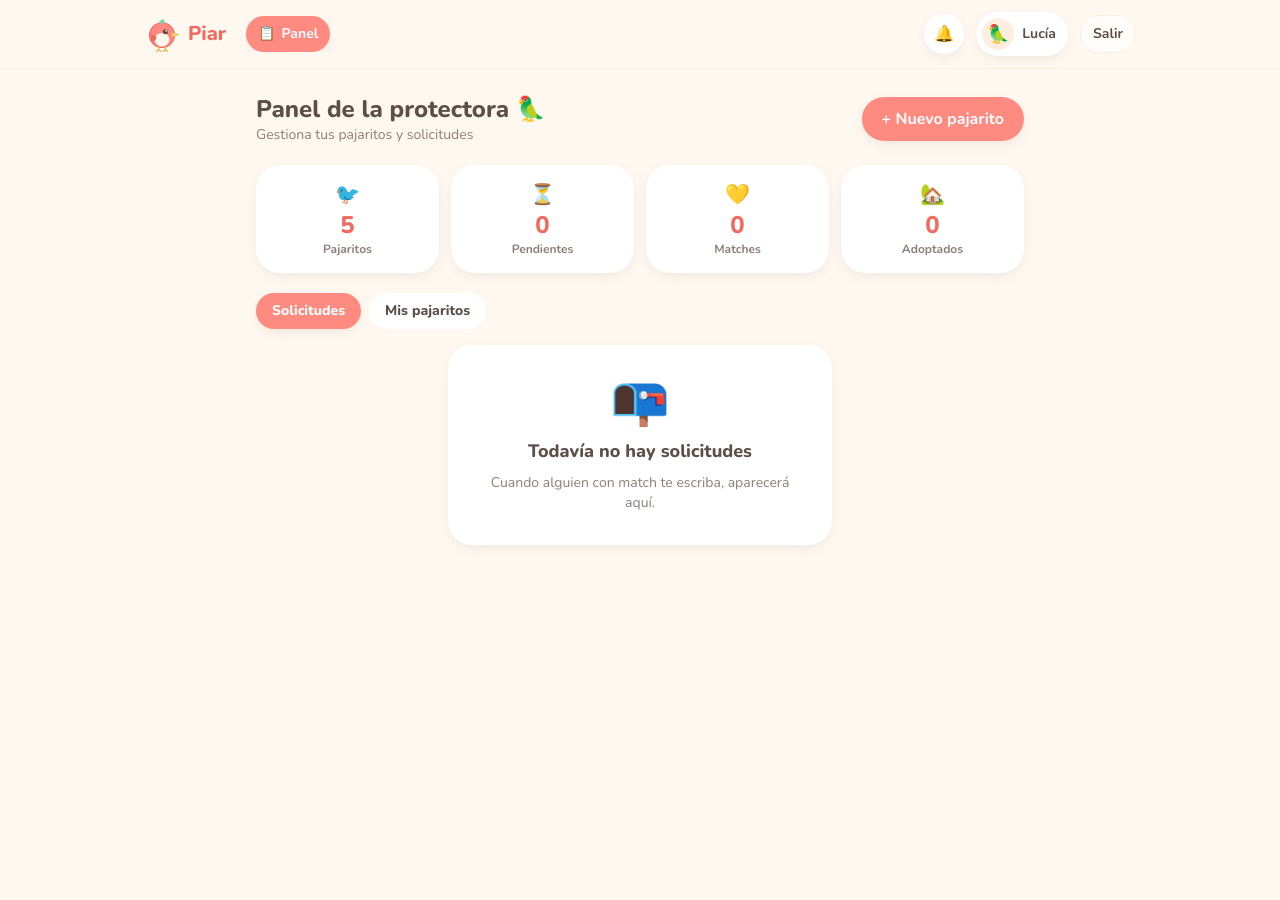
Test: panel de la protectora › crea un pajarito nuevo con el formulario
The image size is (1280, 900).
Click the button "Mis pajaritos": (428, 311) [369,293,486,329]
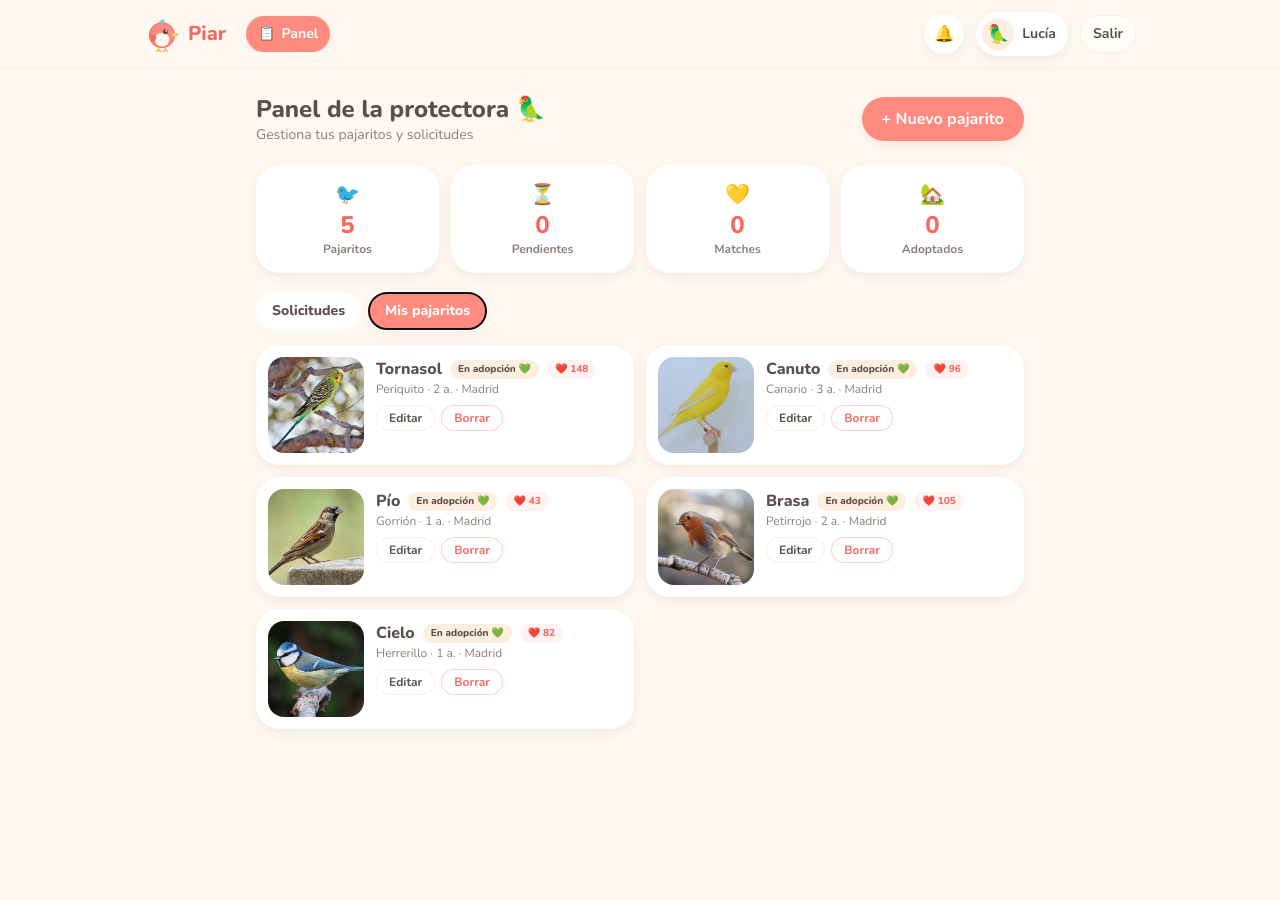
Click the button "+ Nuevo pajarito": (943, 119) [862,97,1024,141]
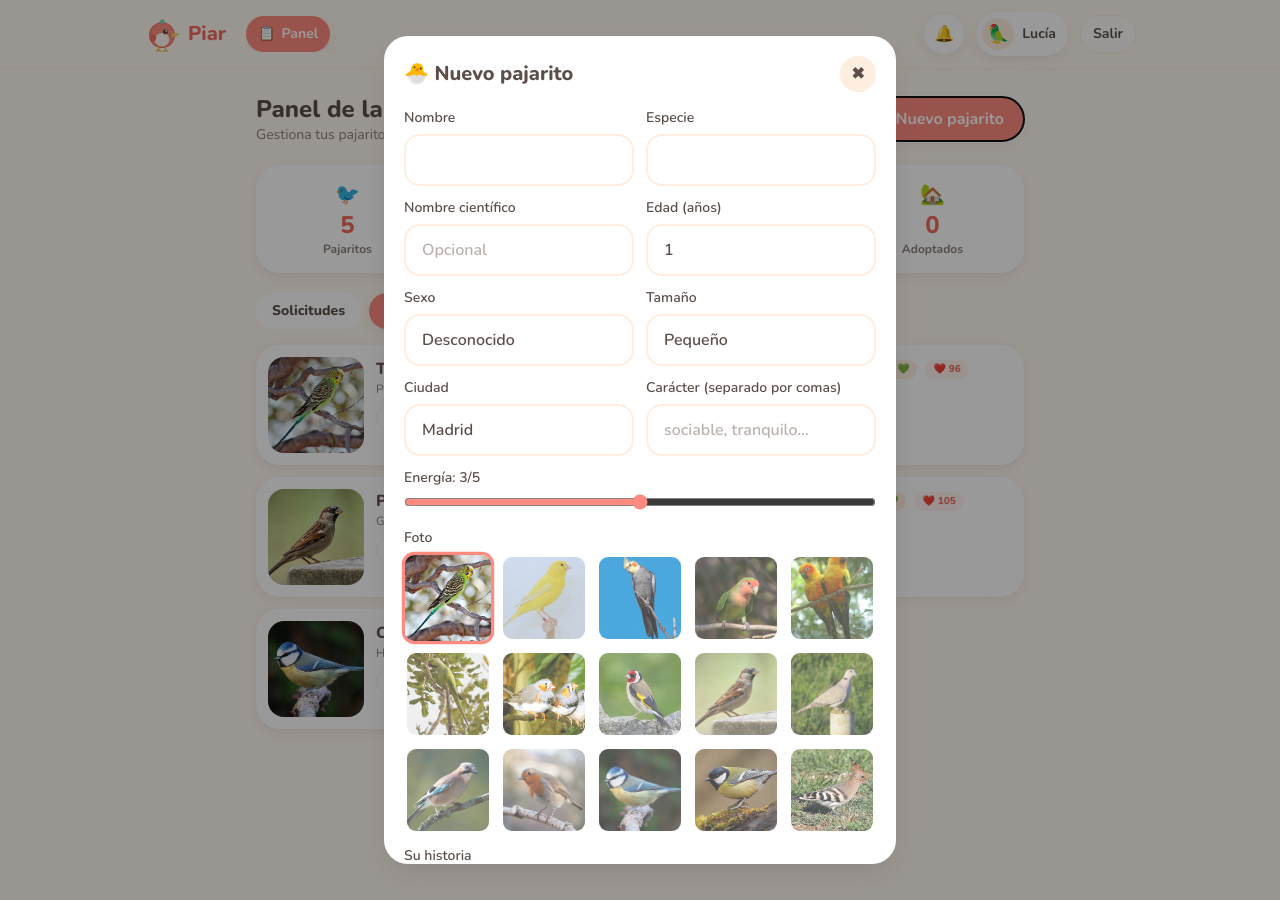
In the field labelled "Nombre": (519, 160) [404,134,634,186], type "Rabito"
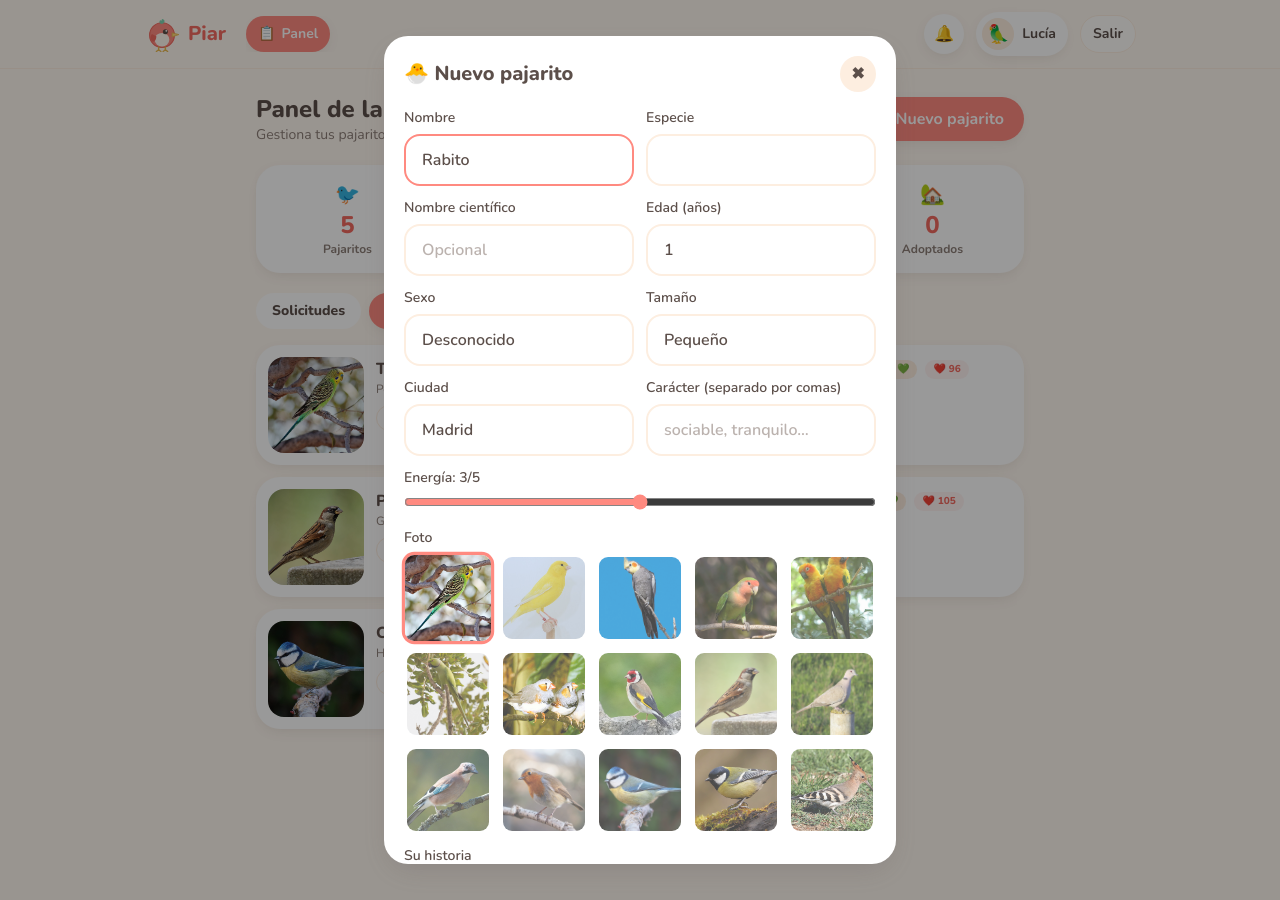
In the field labelled "Especie": (761, 160) [646,134,876,186], type "Pinzón"
(page scrolled)
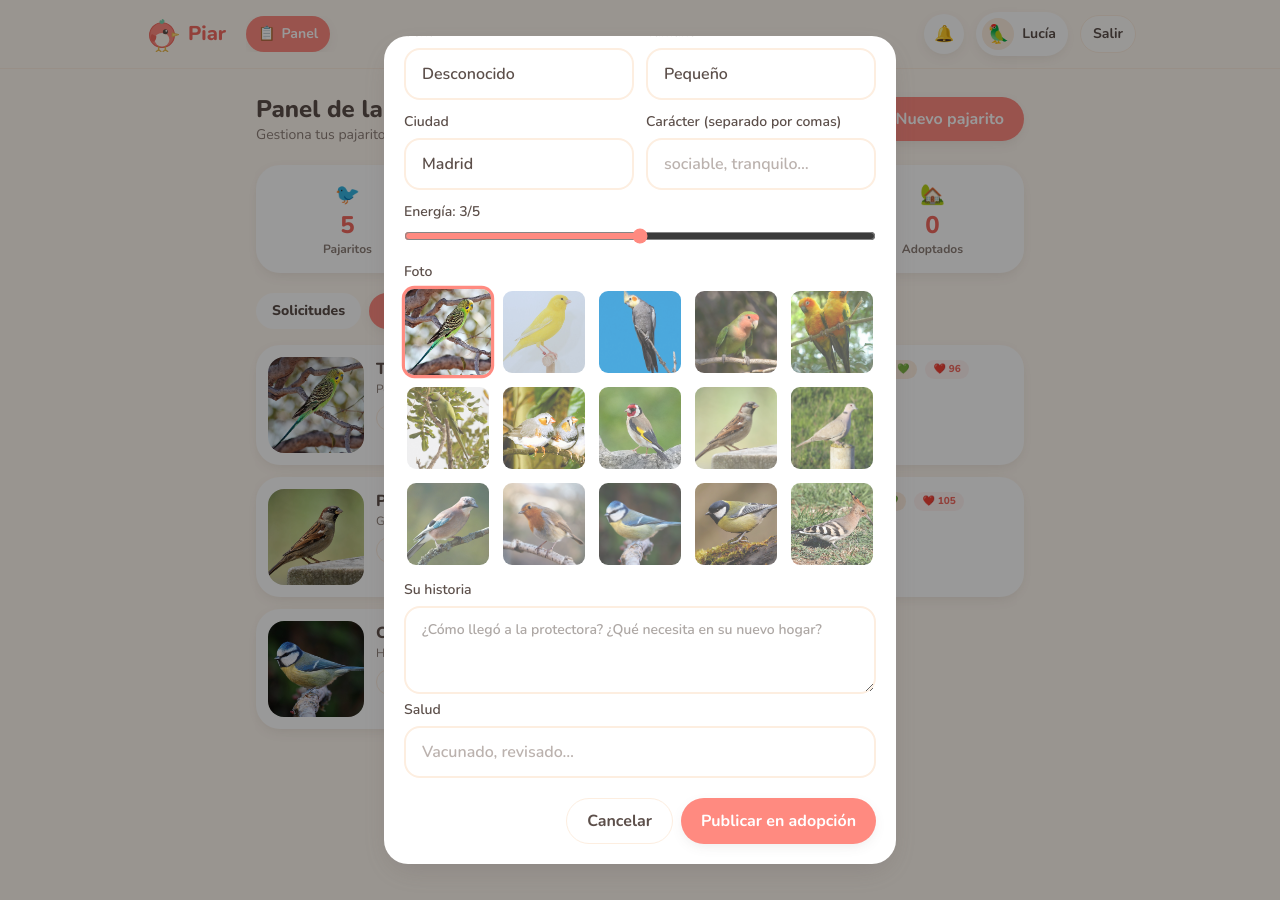
In the text box labelled "Su historia": (640, 650) [404,606,876,694], type "Llegó a la protectora tras una fuga."
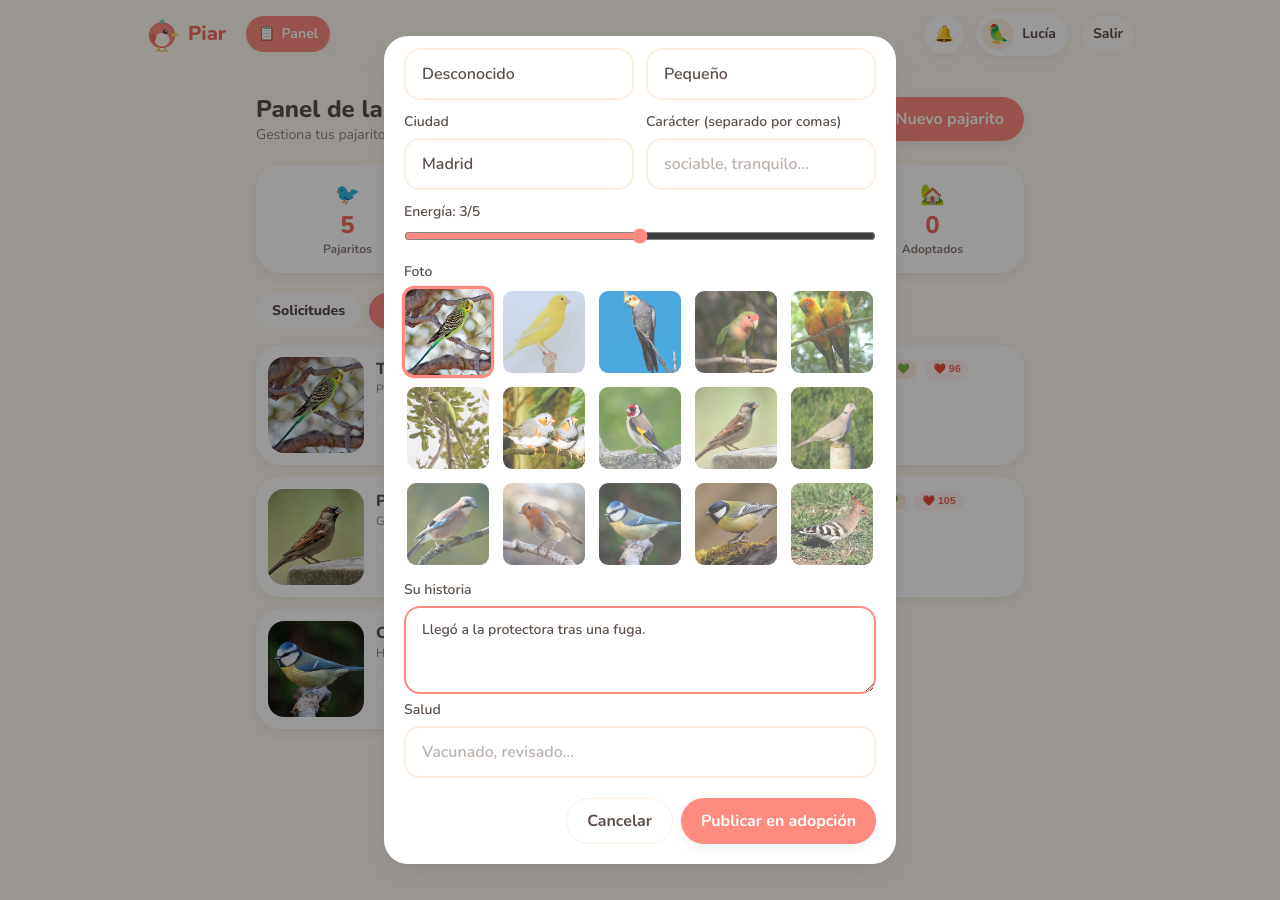
Click the button "Publicar en adopción": (778, 821) [681,798,876,844]
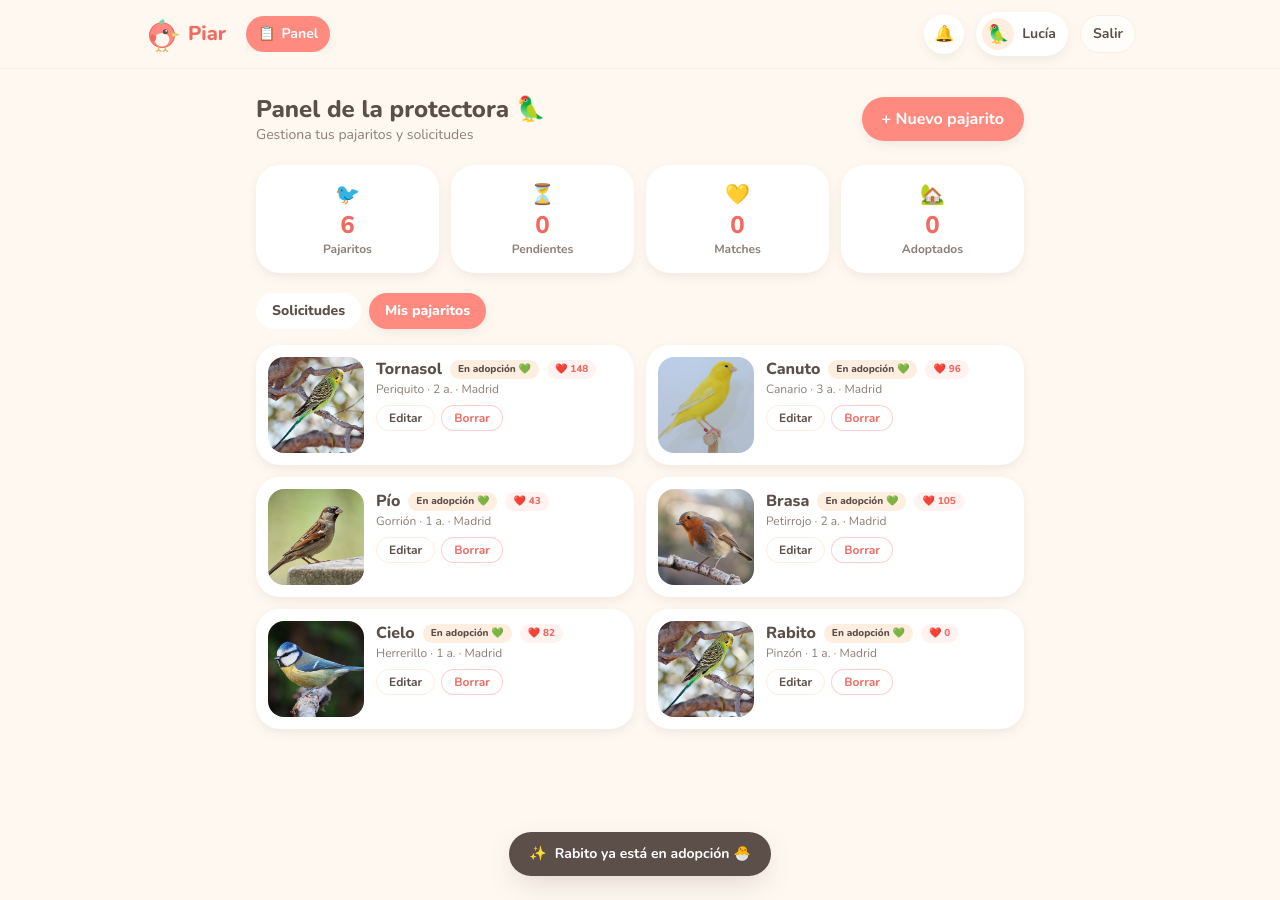
Expected: the text "✨Rabito ya está en adopción 🐣" is shown, [509,832,771,876]
Expected: the heading "Rabito" is shown, [766,621,816,645]
